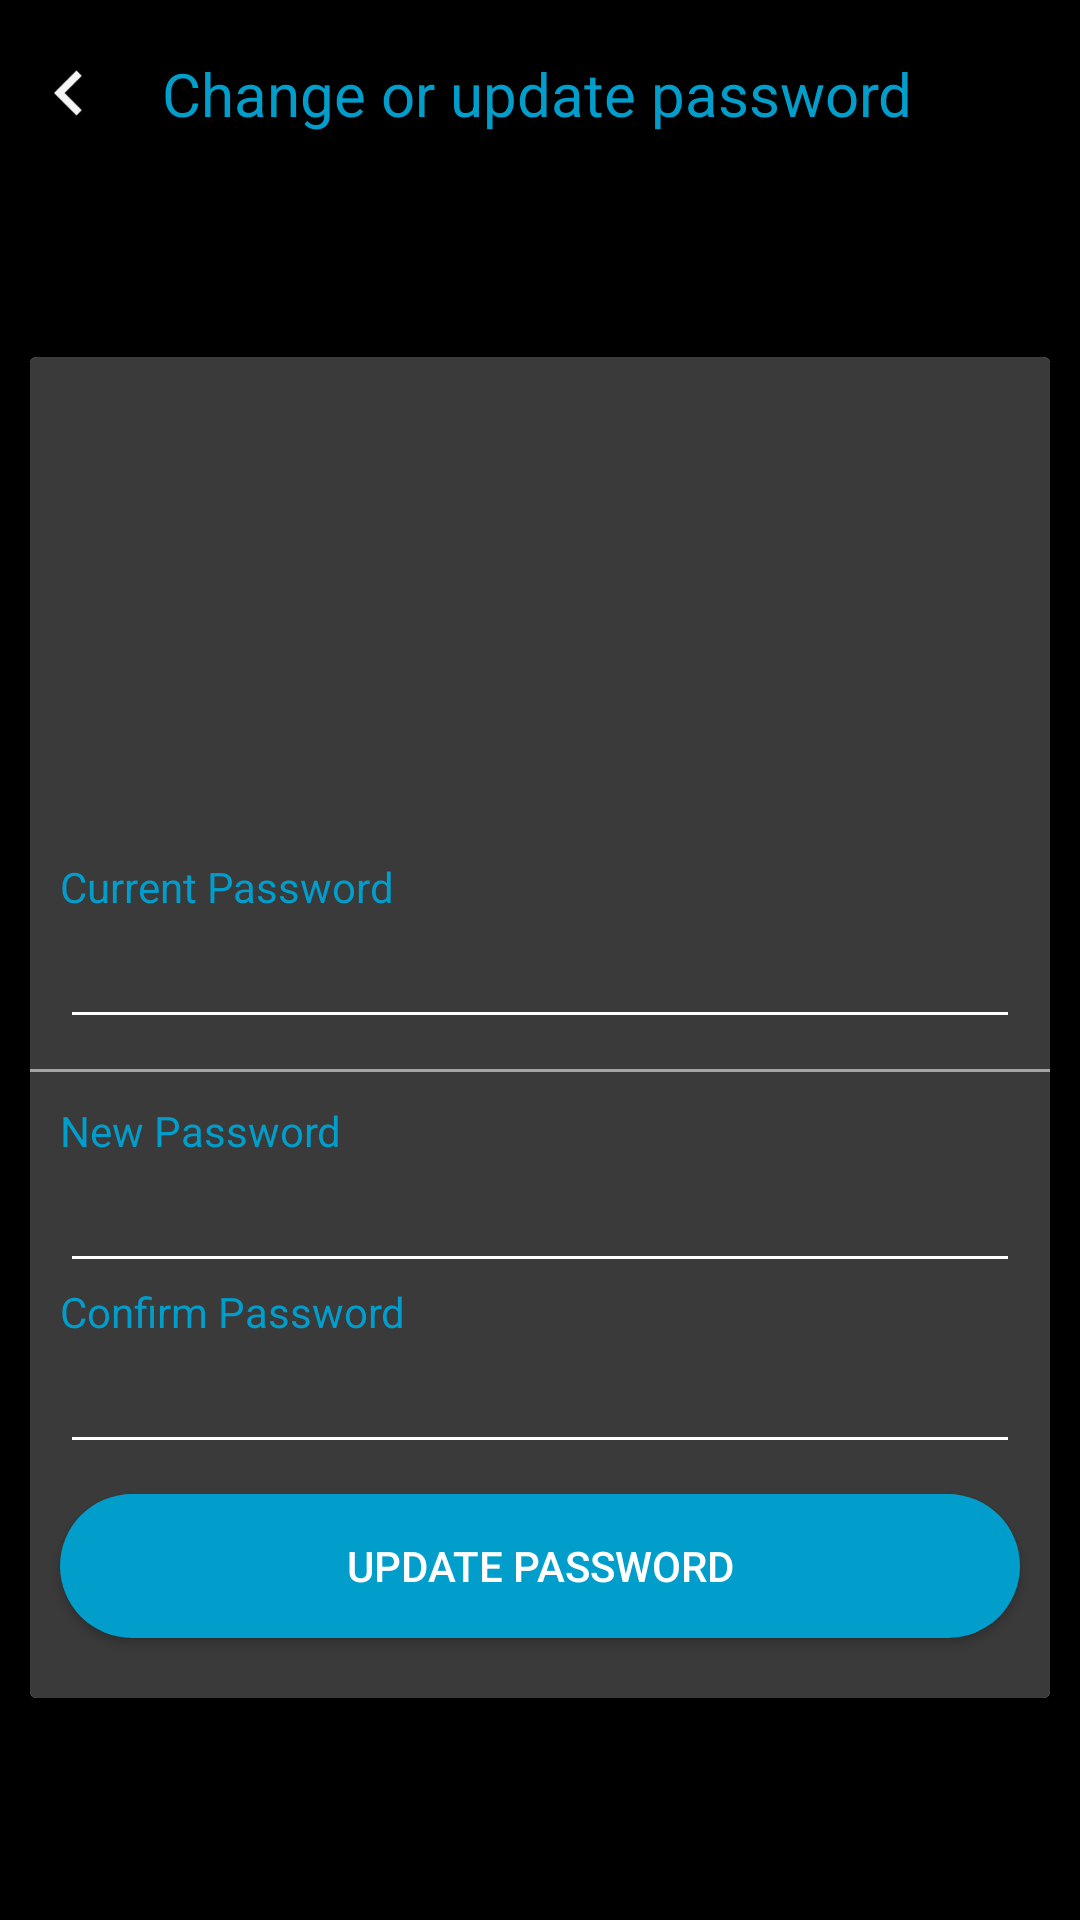

Where icons sit on this 1080w x 1920h app screen, as (x1, y1, x2, y2):
back: (54, 70, 82, 116)
